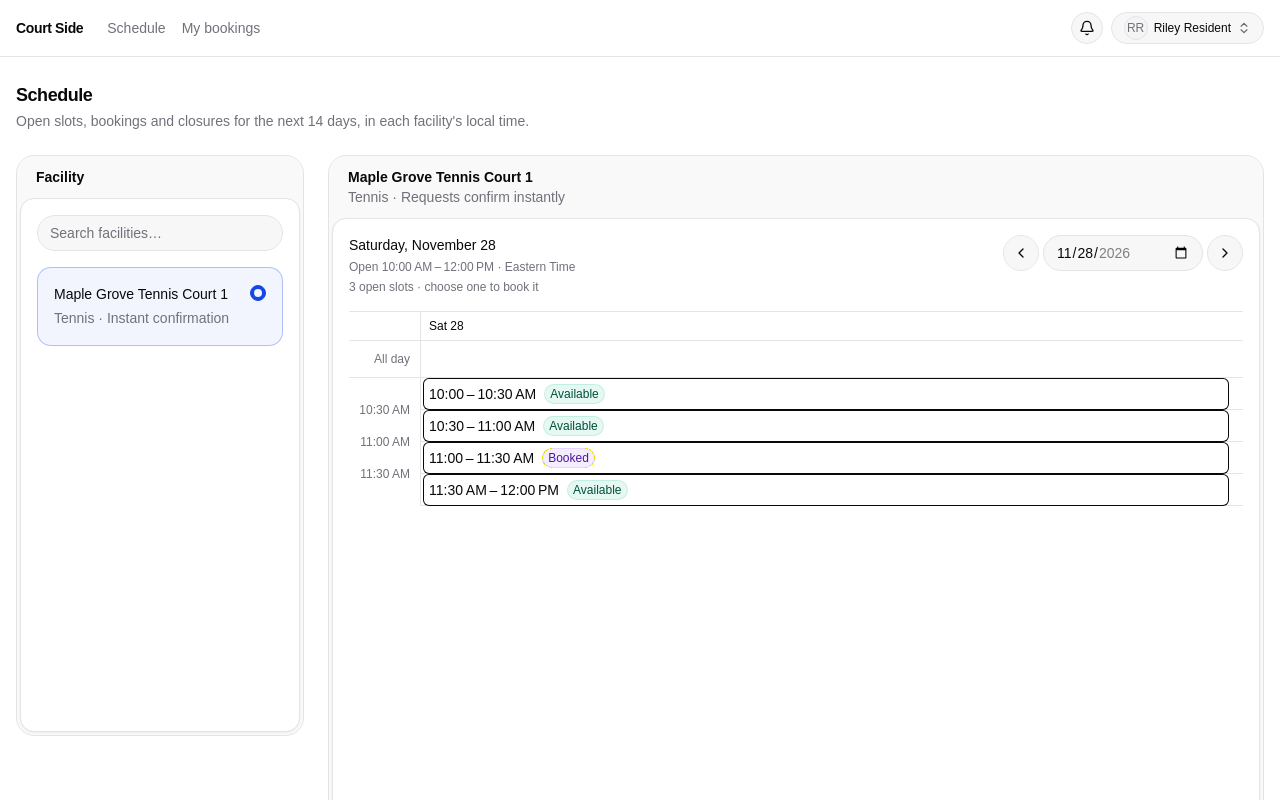
Test: requesting a slot › offers alternatives when the slot was just taken
Later steps or results of the test are not shown.
Step 1. Click the button with aria-label "Request 10:00" → (483, 394), box left=423, top=378, right=1229, bottom=410
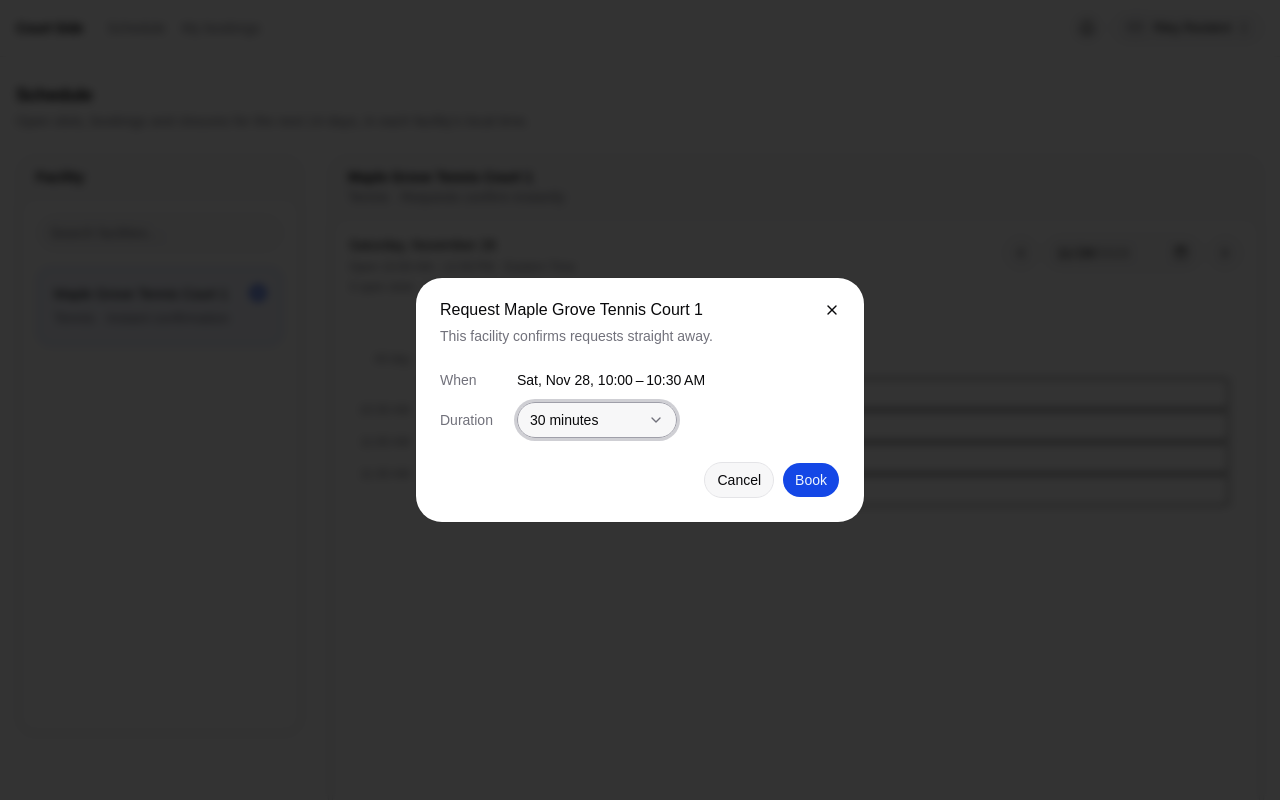
Step 2. Click the button "Book" → (811, 480), box left=782, top=462, right=840, bottom=498
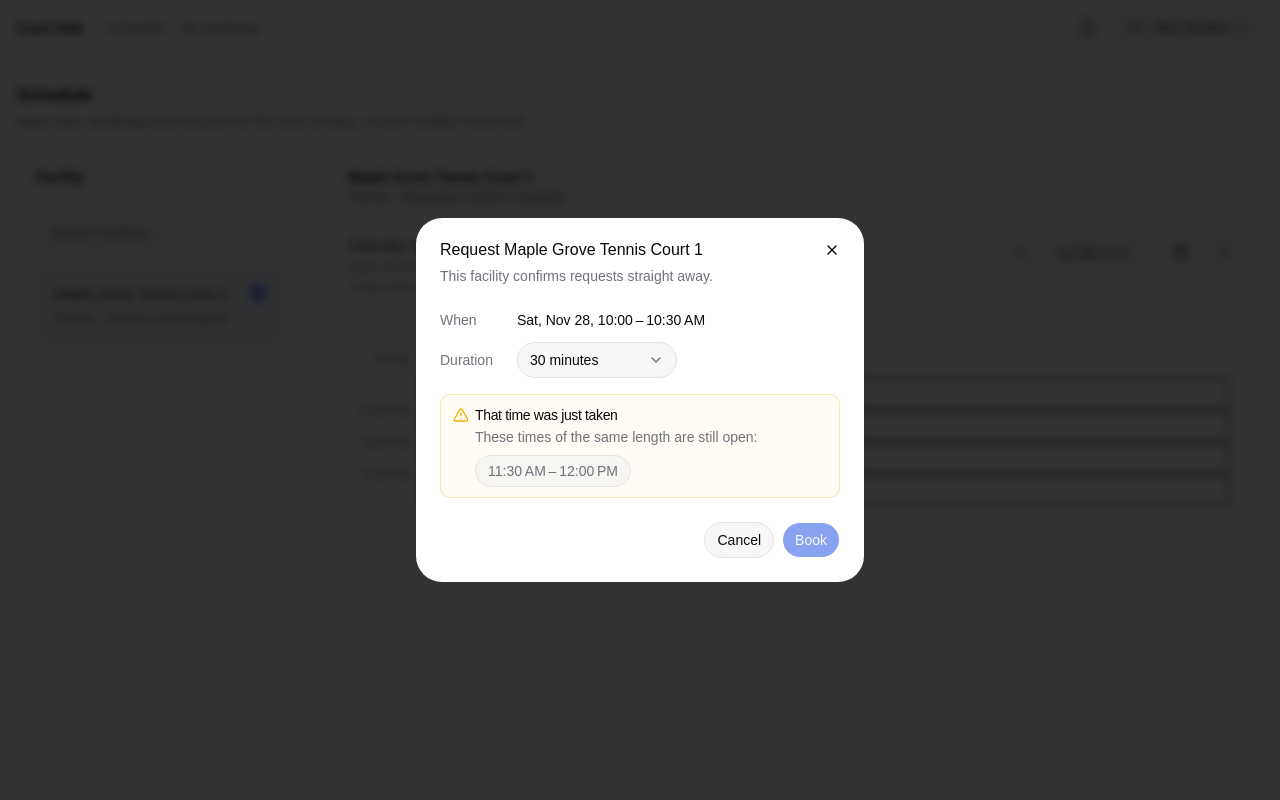
Expected: the text "That time was just taken" is shown, left=475, top=407, right=618, bottom=423
